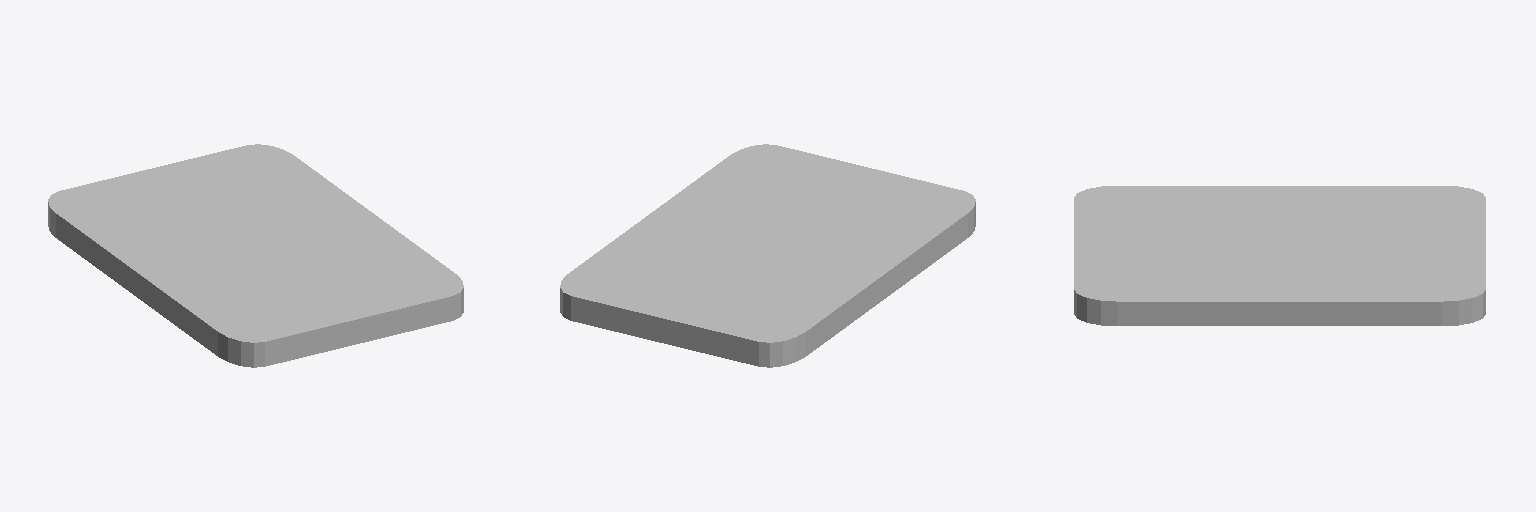
Rendered from card.obj.
3 views of the same model, side by side, from view 1: azimuth 30°, elevation 25°; view 2: azimuth 150°, elevation 25°; view 3: azimuth 270°, elevation 25° (orthographic).
Visible parts, largest first — view 1: Cube; view 2: Cube; view 3: Cube.
Boxes of the visible parts, x1=… form: Cube: x1=48, y1=144, x2=463, y2=367; Cube: x1=560, y1=144, x2=975, y2=367; Cube: x1=1074, y1=186, x2=1485, y2=325.
Bounding box in the file's own units: 4 × 0.4 × 6.